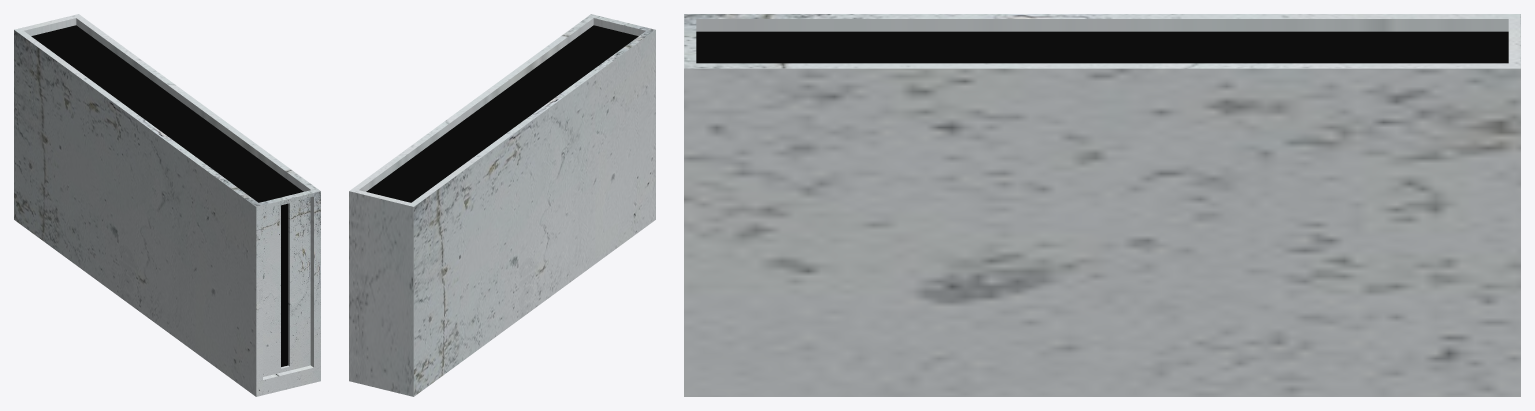
The model's file is calefactor.obj.
3 views of the same model, side by side, from view 1: azimuth 30°, elevation 25°; view 2: azimuth 150°, elevation 25°; view 3: azimuth 270°, elevation 25° (orthographic). The views are drawn at different scales.
Parts seen in each view (by area): view 1: Cube.001_Cube.002; view 2: Cube.001_Cube.002; view 3: Cube.001_Cube.002.
Boxes of the visible parts, x1,y1,x2,y2 form: Cube.001_Cube.002: (14, 14, 320, 396); Cube.001_Cube.002: (349, 14, 655, 396); Cube.001_Cube.002: (684, 14, 1520, 396).
Size of the model in its own units: 0.2054 by 0.5764 by 1.33.
